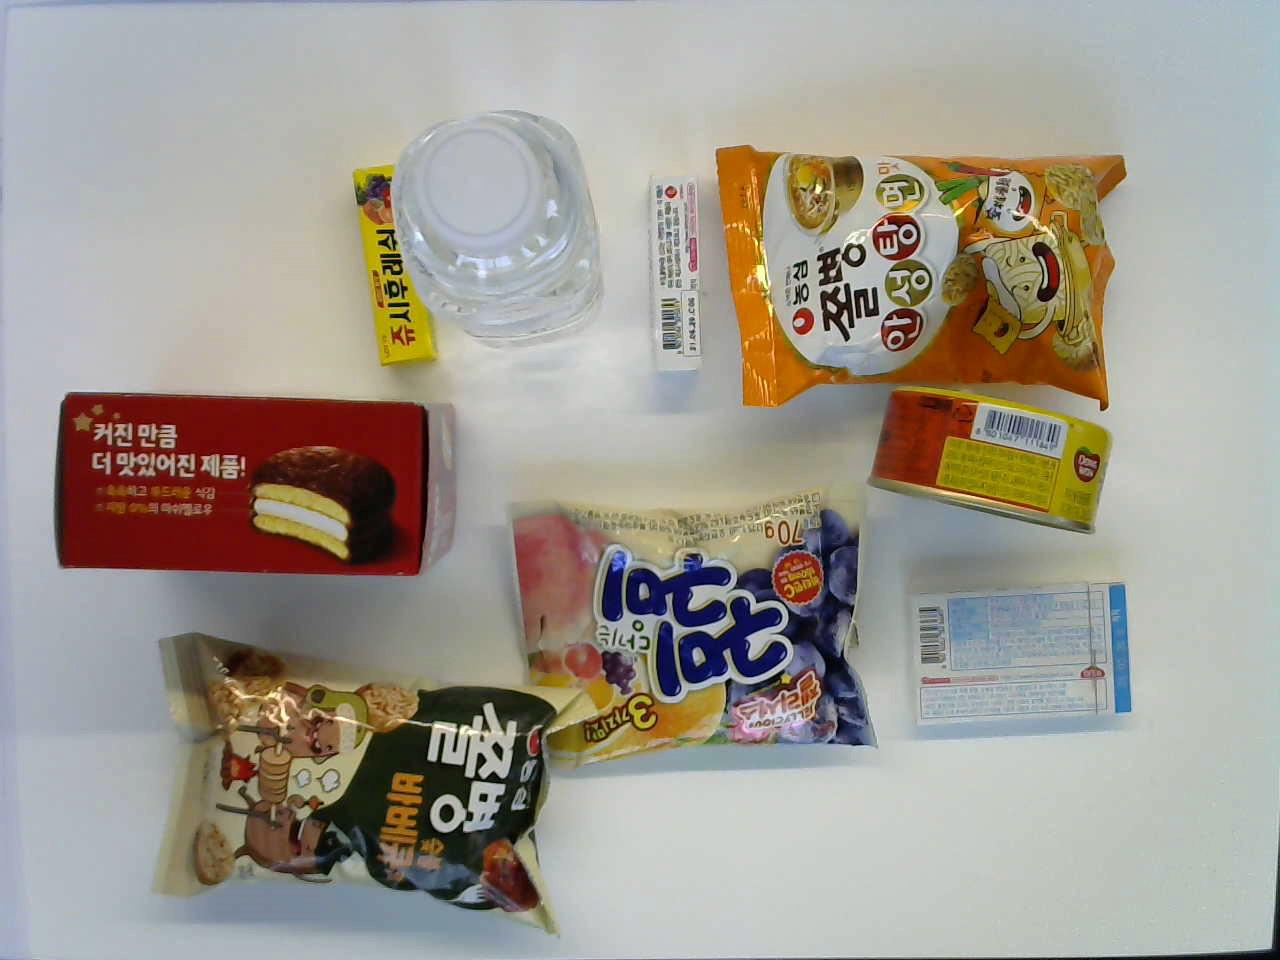ID_gum: (898, 576, 1138, 747)
chocopie: (56, 378, 463, 585)
gumi_gumi: (499, 488, 882, 761)
jjolbyung_noodle: (735, 138, 1136, 413)
jjolbyung_ori: (142, 619, 584, 940)
juicyfresh: (344, 161, 445, 368)
samdasu: (392, 111, 607, 353)
spearmint: (643, 171, 709, 377)
tuna: (860, 388, 1124, 538)
